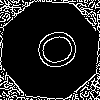O: (25, 25, 81, 77)
